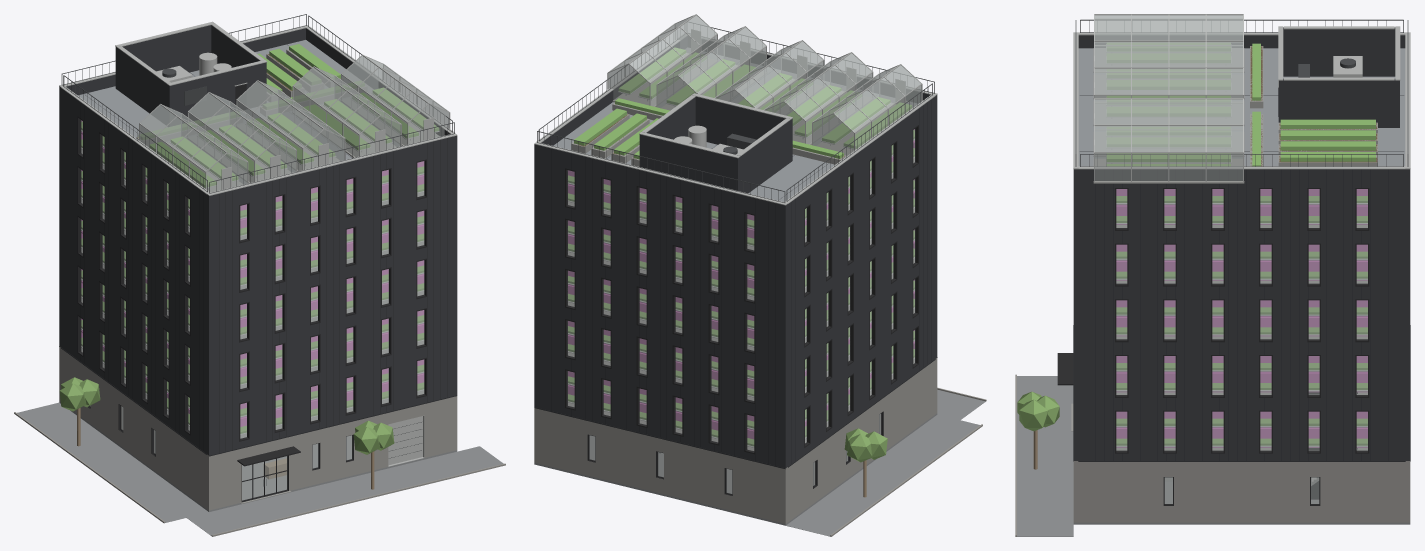
The model's file is clay-led-grow-block-clay-v002.glb.
3 views of the same model, side by side, from view 1: azimuth 30°, elevation 25°; view 2: azimuth 150°, elevation 25°; view 3: azimuth 270°, elevation 25° (orthographic). The views are drawn at different scales.
Parts seen in each view (by area): view 1: CLAY_WALL, CLAY_GLASS, CLAY_STONE, CLAY_TRIM, CLAY_FOUNDATION, CLAY_LEAF, CLAY_PALE, CLAY_JOINT, CLAY_SAND, CLAY_LED, CLAY_MEMBRANE, CLAY_HARDWARE (+4 smaller); view 2: CLAY_WALL, CLAY_GLASS, CLAY_STONE, CLAY_TRIM, CLAY_LEAF, CLAY_PALE, CLAY_FOUNDATION, CLAY_JOINT, CLAY_SAND, CLAY_LED, CLAY_MEMBRANE, CLAY_HARDWARE (+3 smaller); view 3: CLAY_WALL, CLAY_GLASS, CLAY_STONE, CLAY_LEAF, CLAY_PALE, CLAY_FOUNDATION, CLAY_TRIM, CLAY_LED, CLAY_JOINT, CLAY_MEMBRANE, CLAY_SAND, CLAY_HARDWARE (+4 smaller).
Boxes of the visible parts, x1=… form: CLAY_WALL: x1=59, y1=25, x2=457, y2=455; CLAY_GLASS: x1=81, y1=56, x2=449, y2=500; CLAY_STONE: x1=14, y1=346, x2=505, y2=536; CLAY_TRIM: x1=77, y1=84, x2=427, y2=502; CLAY_FOUNDATION: x1=16, y1=401, x2=503, y2=536; CLAY_LEAF: x1=81, y1=44, x2=439, y2=433; CLAY_PALE: x1=59, y1=21, x2=457, y2=466; CLAY_JOINT: x1=59, y1=45, x2=457, y2=458; CLAY_SAND: x1=136, y1=49, x2=439, y2=503; CLAY_LED: x1=81, y1=120, x2=424, y2=426; CLAY_MEMBRANE: x1=78, y1=40, x2=399, y2=183; CLAY_HARDWARE: x1=61, y1=14, x2=454, y2=486; CLAY_WALL: x1=534, y1=36, x2=937, y2=468; CLAY_GLASS: x1=567, y1=15, x2=921, y2=493; CLAY_STONE: x1=534, y1=358, x2=986, y2=536; CLAY_TRIM: x1=565, y1=125, x2=918, y2=495; CLAY_LEAF: x1=568, y1=47, x2=914, y2=446; CLAY_PALE: x1=534, y1=14, x2=937, y2=205; CLAY_FOUNDATION: x1=534, y1=389, x2=985, y2=536; CLAY_JOINT: x1=534, y1=99, x2=937, y2=469; CLAY_SAND: x1=571, y1=53, x2=896, y2=166; CLAY_LED: x1=568, y1=129, x2=914, y2=439; CLAY_MEMBRANE: x1=553, y1=48, x2=916, y2=201; CLAY_HARDWARE: x1=537, y1=22, x2=934, y2=202; CLAY_WALL: x1=1073, y1=27, x2=1410, y2=499; CLAY_GLASS: x1=1094, y1=15, x2=1367, y2=503; CLAY_STONE: x1=1015, y1=374, x2=1410, y2=536; CLAY_LEAF: x1=1106, y1=43, x2=1375, y2=445; CLAY_PALE: x1=1073, y1=14, x2=1410, y2=485; CLAY_FOUNDATION: x1=1017, y1=376, x2=1410, y2=536; CLAY_TRIM: x1=1057, y1=88, x2=1369, y2=505; CLAY_LED: x1=1116, y1=189, x2=1367, y2=447; CLAY_JOINT: x1=1073, y1=95, x2=1410, y2=461; CLAY_MEMBRANE: x1=1078, y1=48, x2=1405, y2=166; CLAY_SAND: x1=1071, y1=46, x2=1377, y2=431; CLAY_HARDWARE: x1=1075, y1=19, x2=1408, y2=480.
Size of the model in its own units: 28.3 by 29.46 by 27.03.
